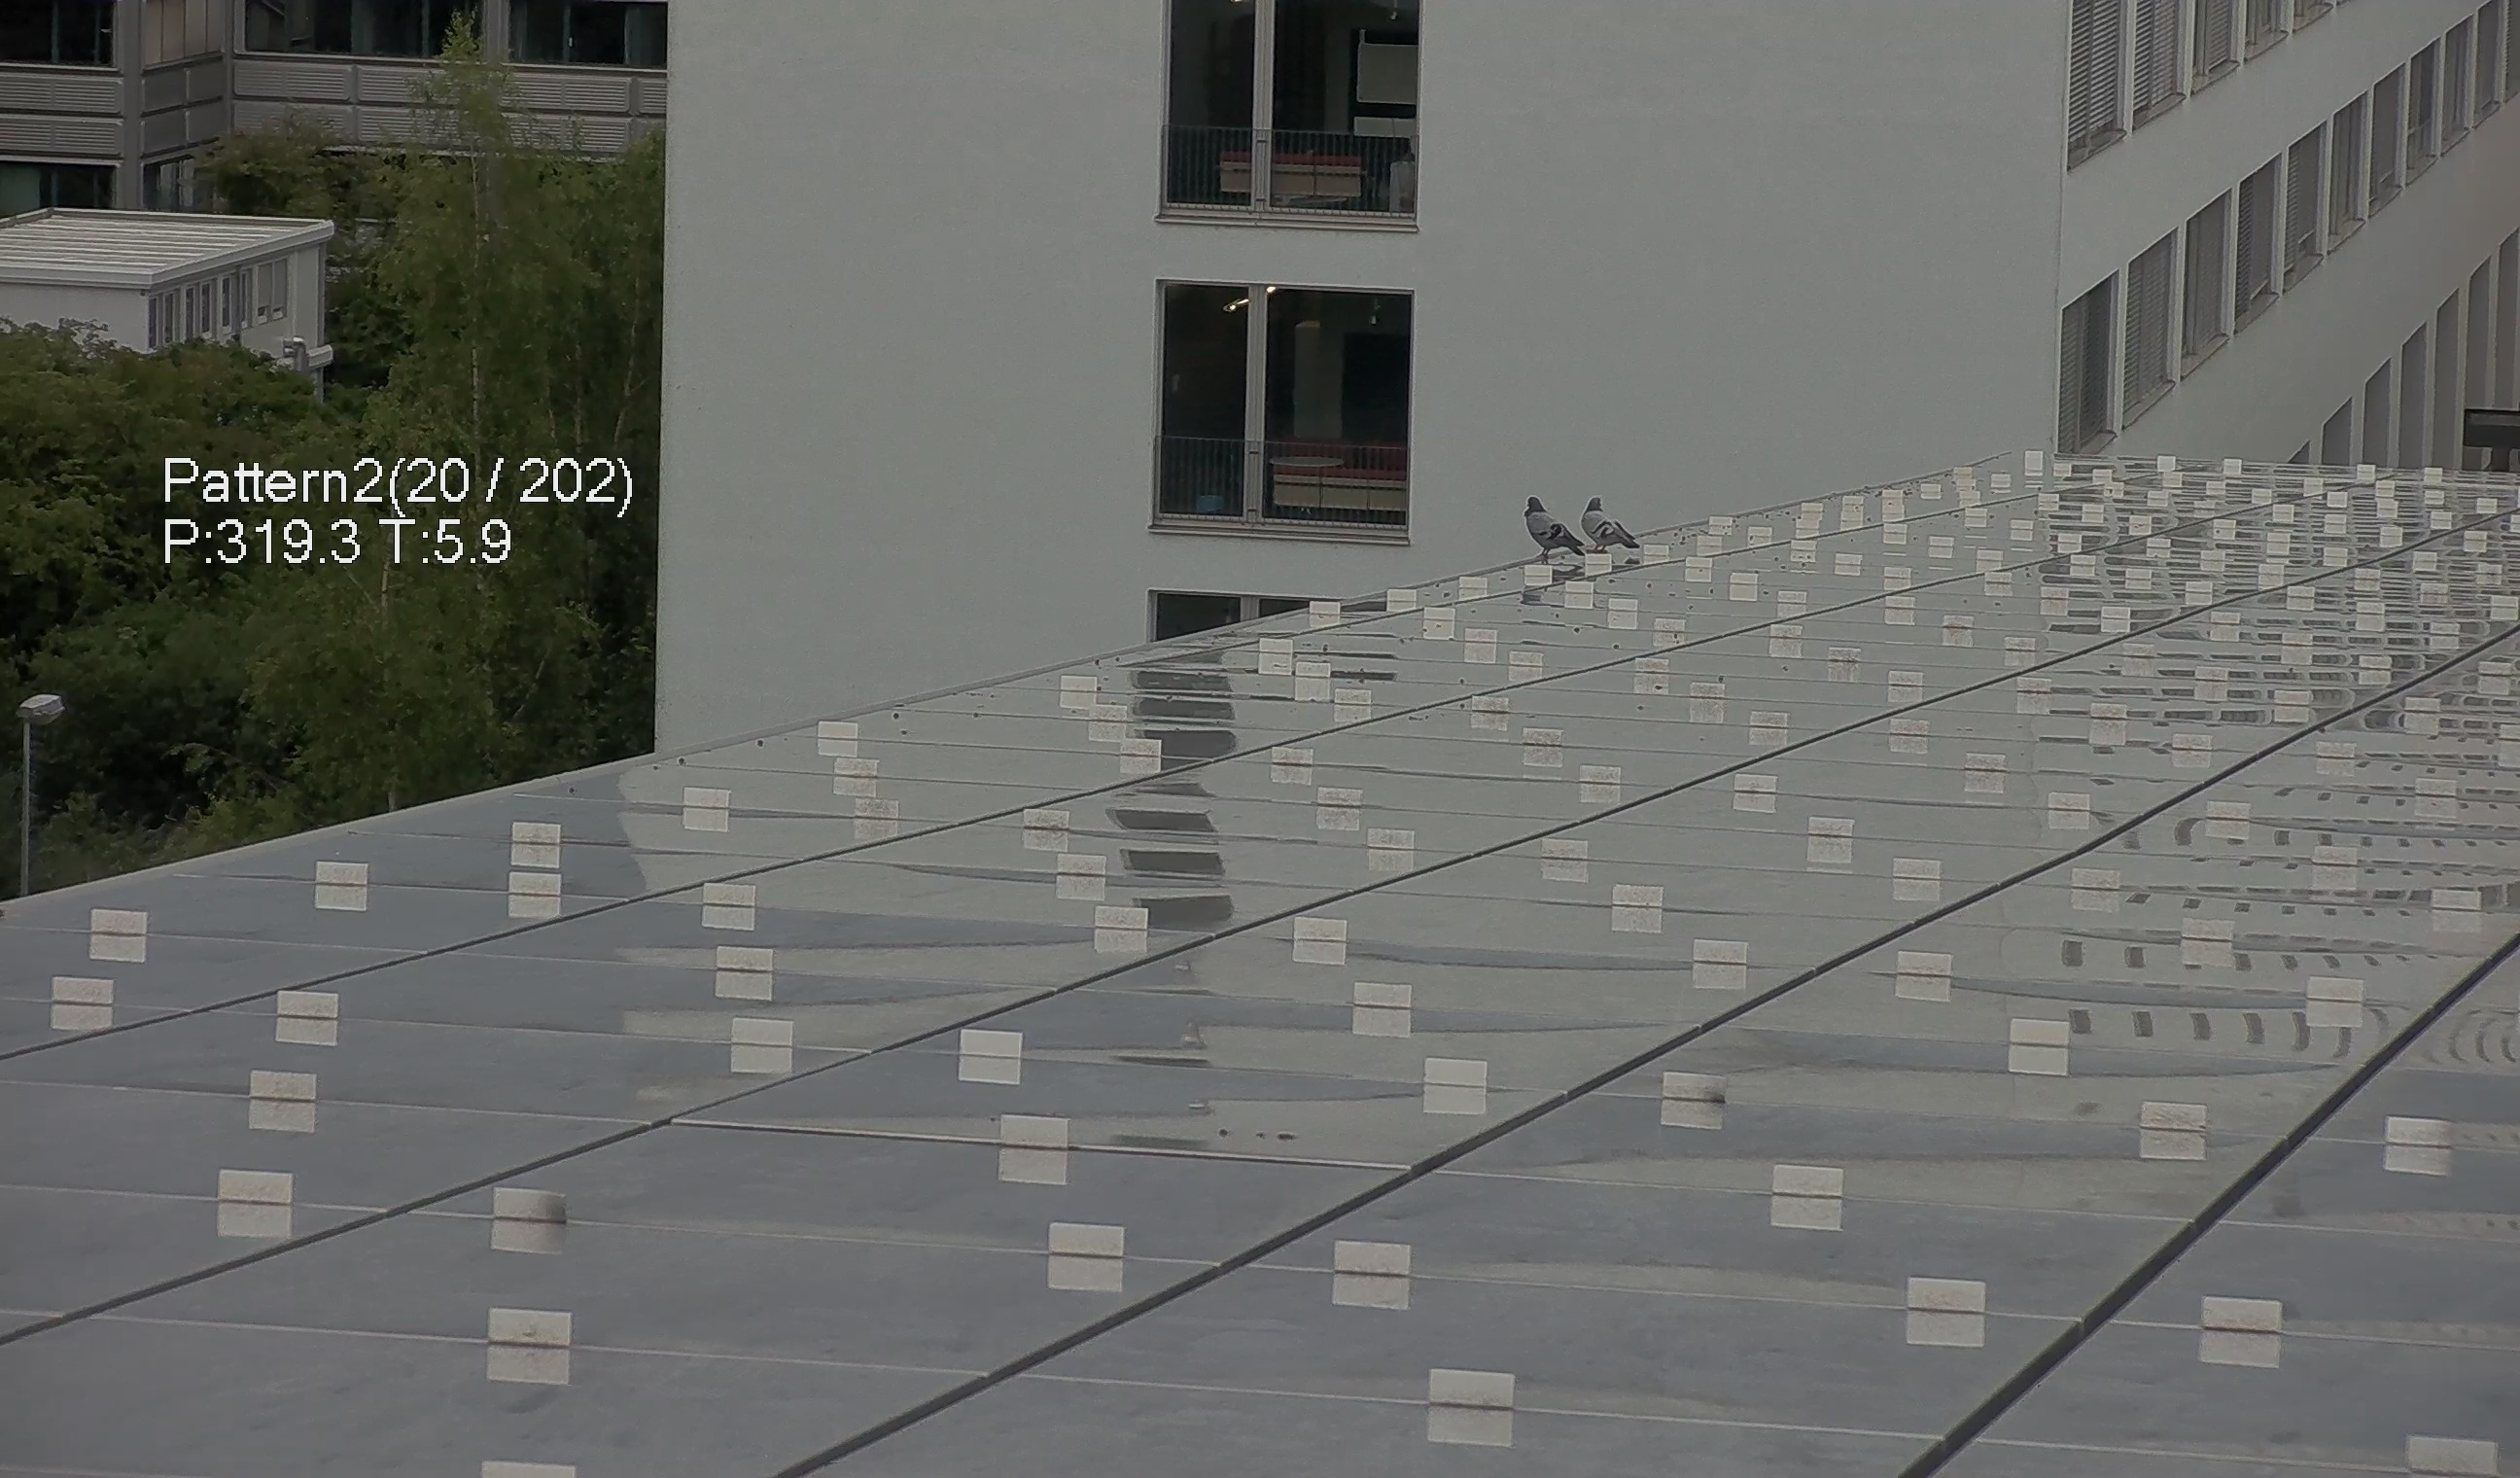Pigeon: (1519, 494, 1597, 570), (1583, 494, 1642, 560)
